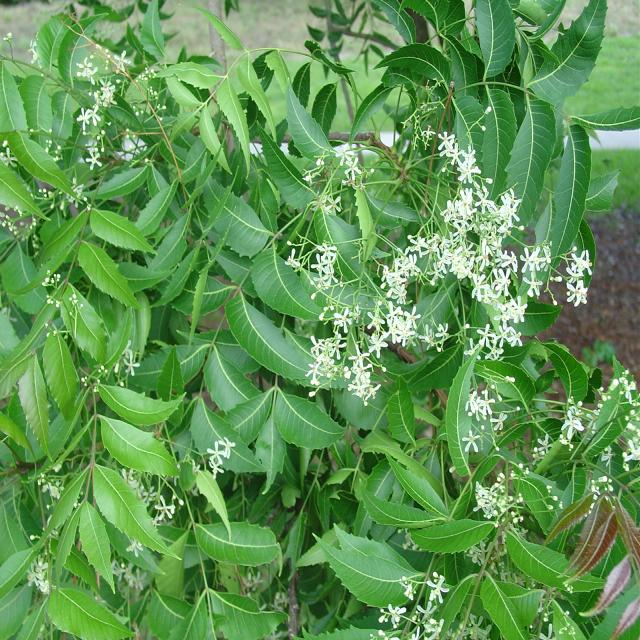Medicinal-Neem: (262, 1, 606, 631), (4, 11, 303, 613)
